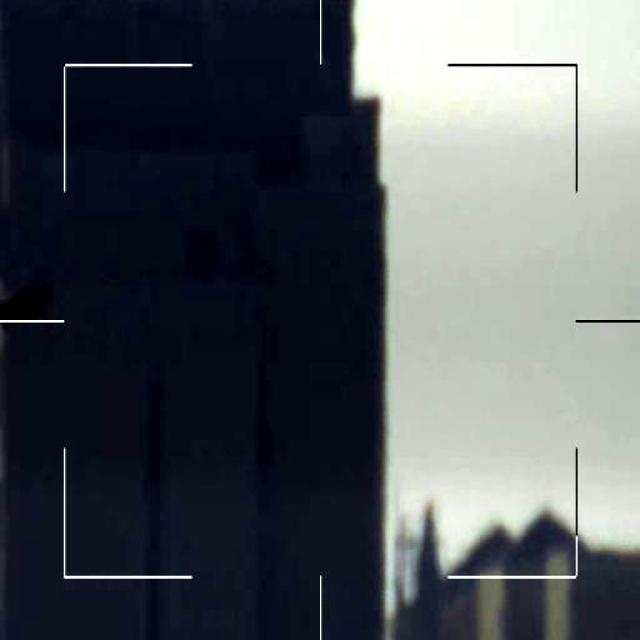bird: (0, 289, 49, 332)
